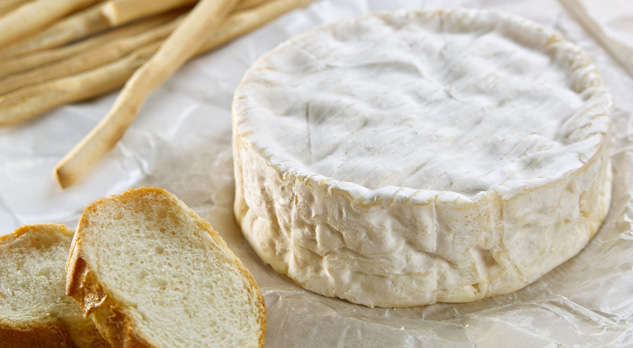camembert: (228, 8, 613, 305)
